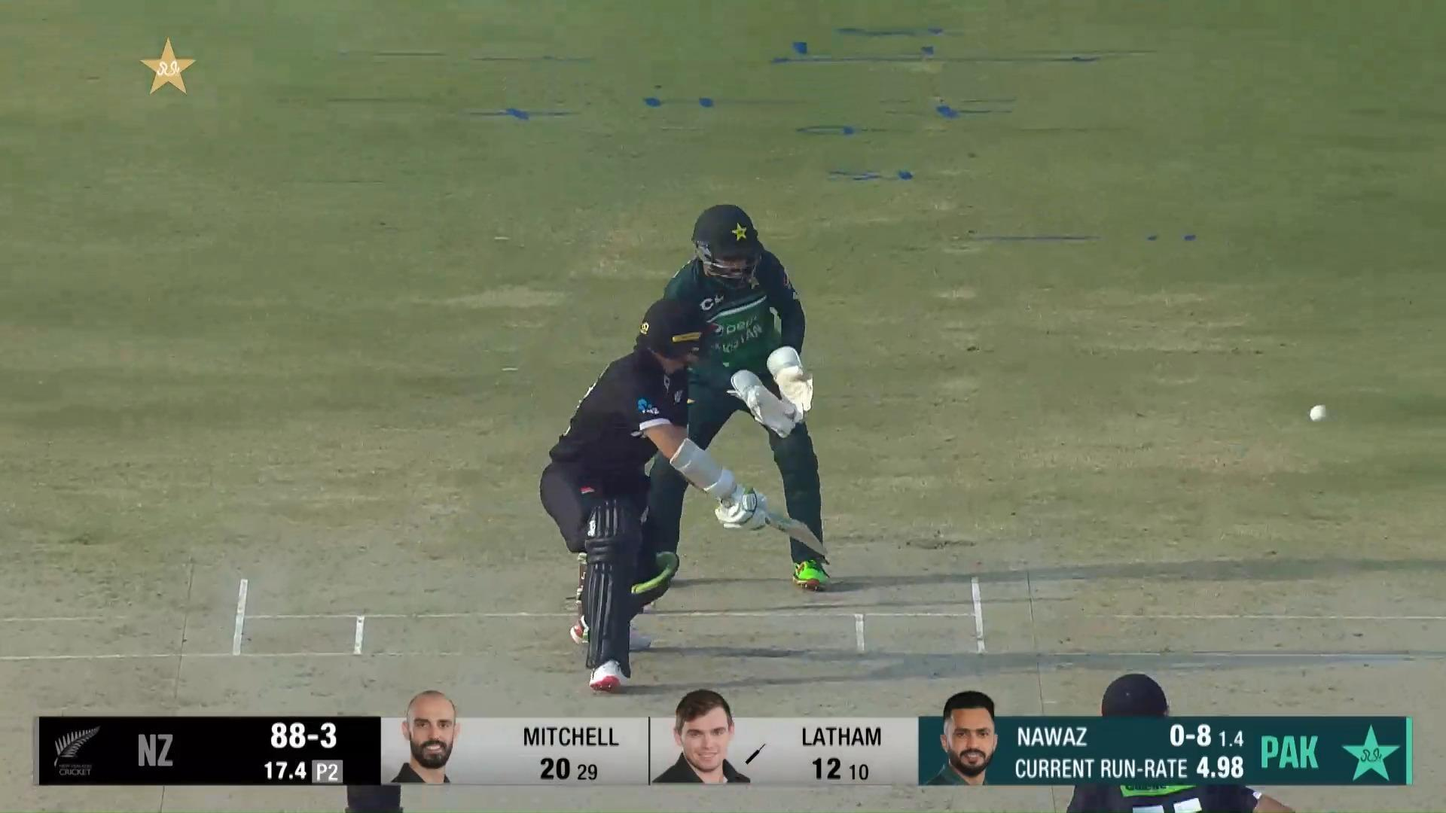BM 1: (535, 293, 835, 695)
BO: (342, 764, 405, 813)
